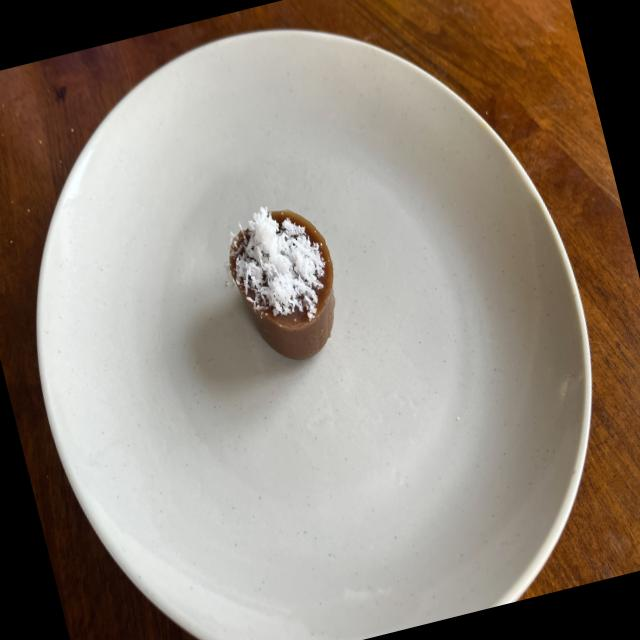Kuih lompang: (229, 206, 335, 360)
